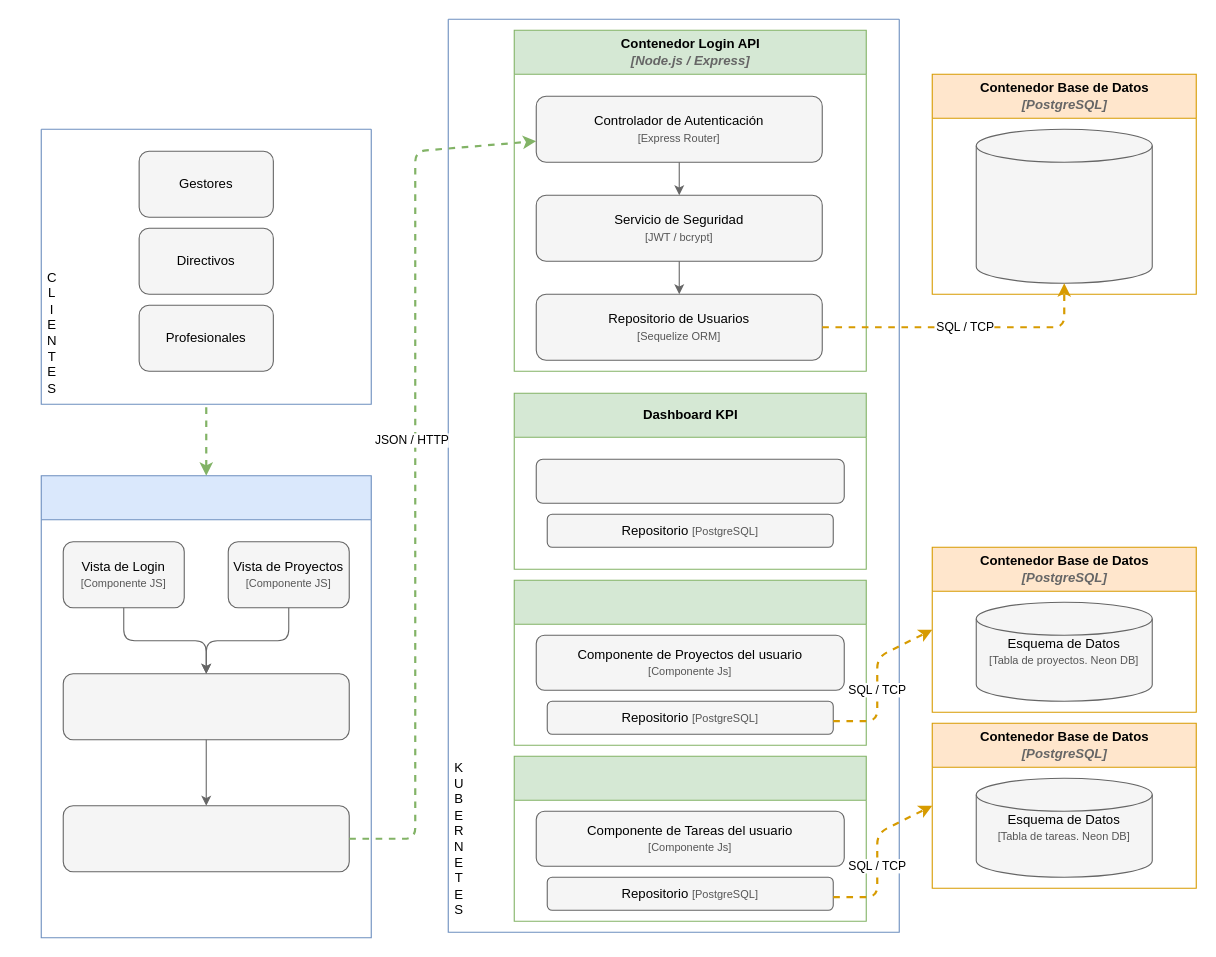
The diagram is 1216 pixels wide and 957 high, and some of its shapes have lost their labels. Here are the shapes that lost their labels. From the top down, the box of each, then its label:
(975, 128, 1152, 283): Esquema de Datos [Tablas de Usuarios]
(535, 458, 844, 503): Componente de progeso [Componente Js]
(513, 579, 866, 745): Dashboard Proyectos
(40, 475, 371, 938): Contenedor Frontend [Aplicación Web HTML/JS]
(62, 673, 349, 740): Enrutador UI [React Router]
(62, 805, 349, 872): Cliente API HTTP [Fetch]
(513, 755, 866, 921): Dashboard Tareas
